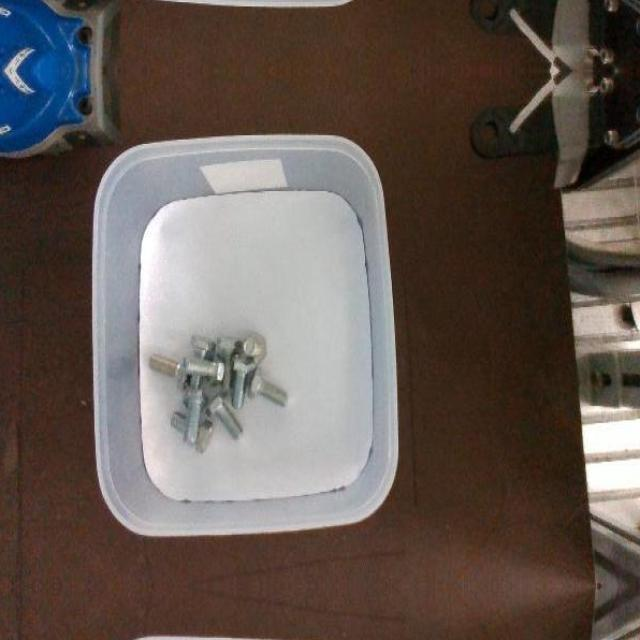screw: (206, 386, 243, 439), (248, 367, 289, 408), (183, 386, 210, 446), (182, 350, 225, 384)
